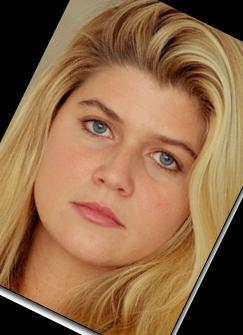Sober: (53, 72, 189, 254)
